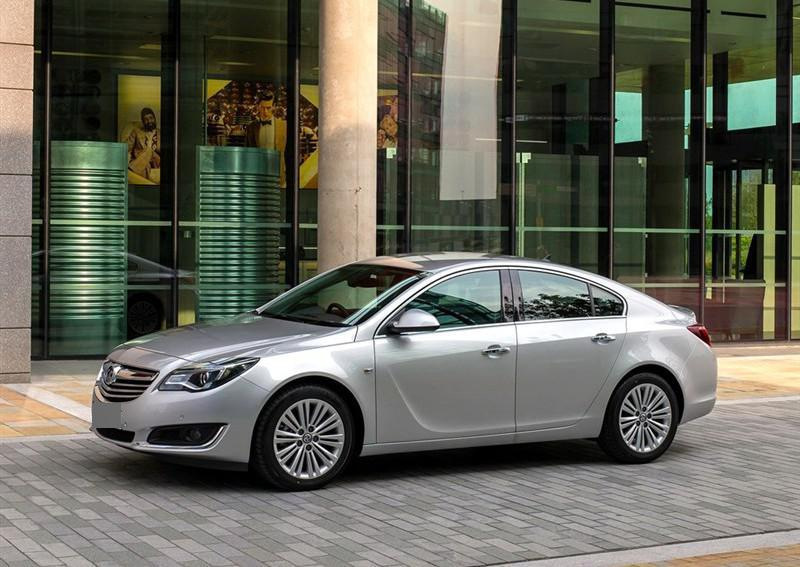Wagon: (89, 250, 720, 493)
